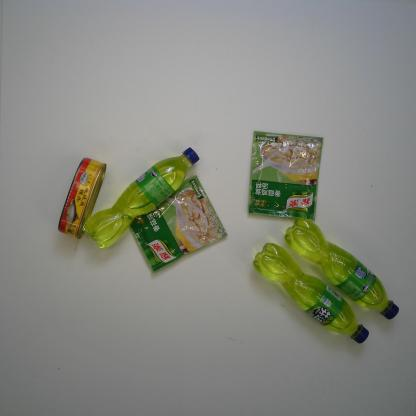Canned Food: (56, 155, 109, 242)
Drink: (250, 239, 370, 346), (282, 216, 402, 322), (83, 144, 202, 250)
Seasoner: (123, 173, 228, 275), (244, 130, 324, 223)
